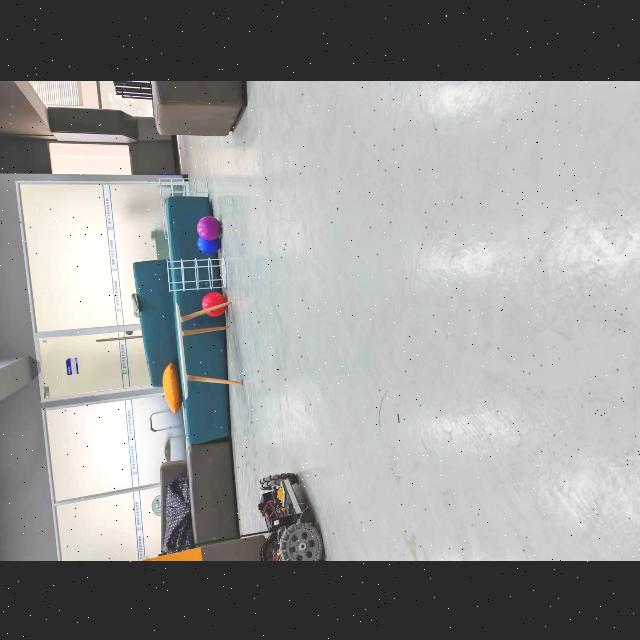B: (197, 235, 221, 254)
P: (197, 215, 222, 239)
R: (202, 291, 226, 315)
S: (166, 257, 227, 291)
